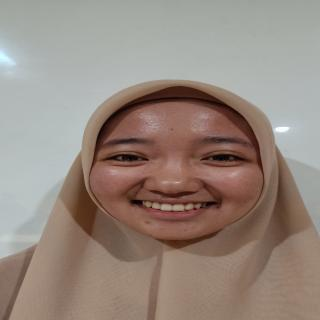Senang: (88, 87, 274, 248)
